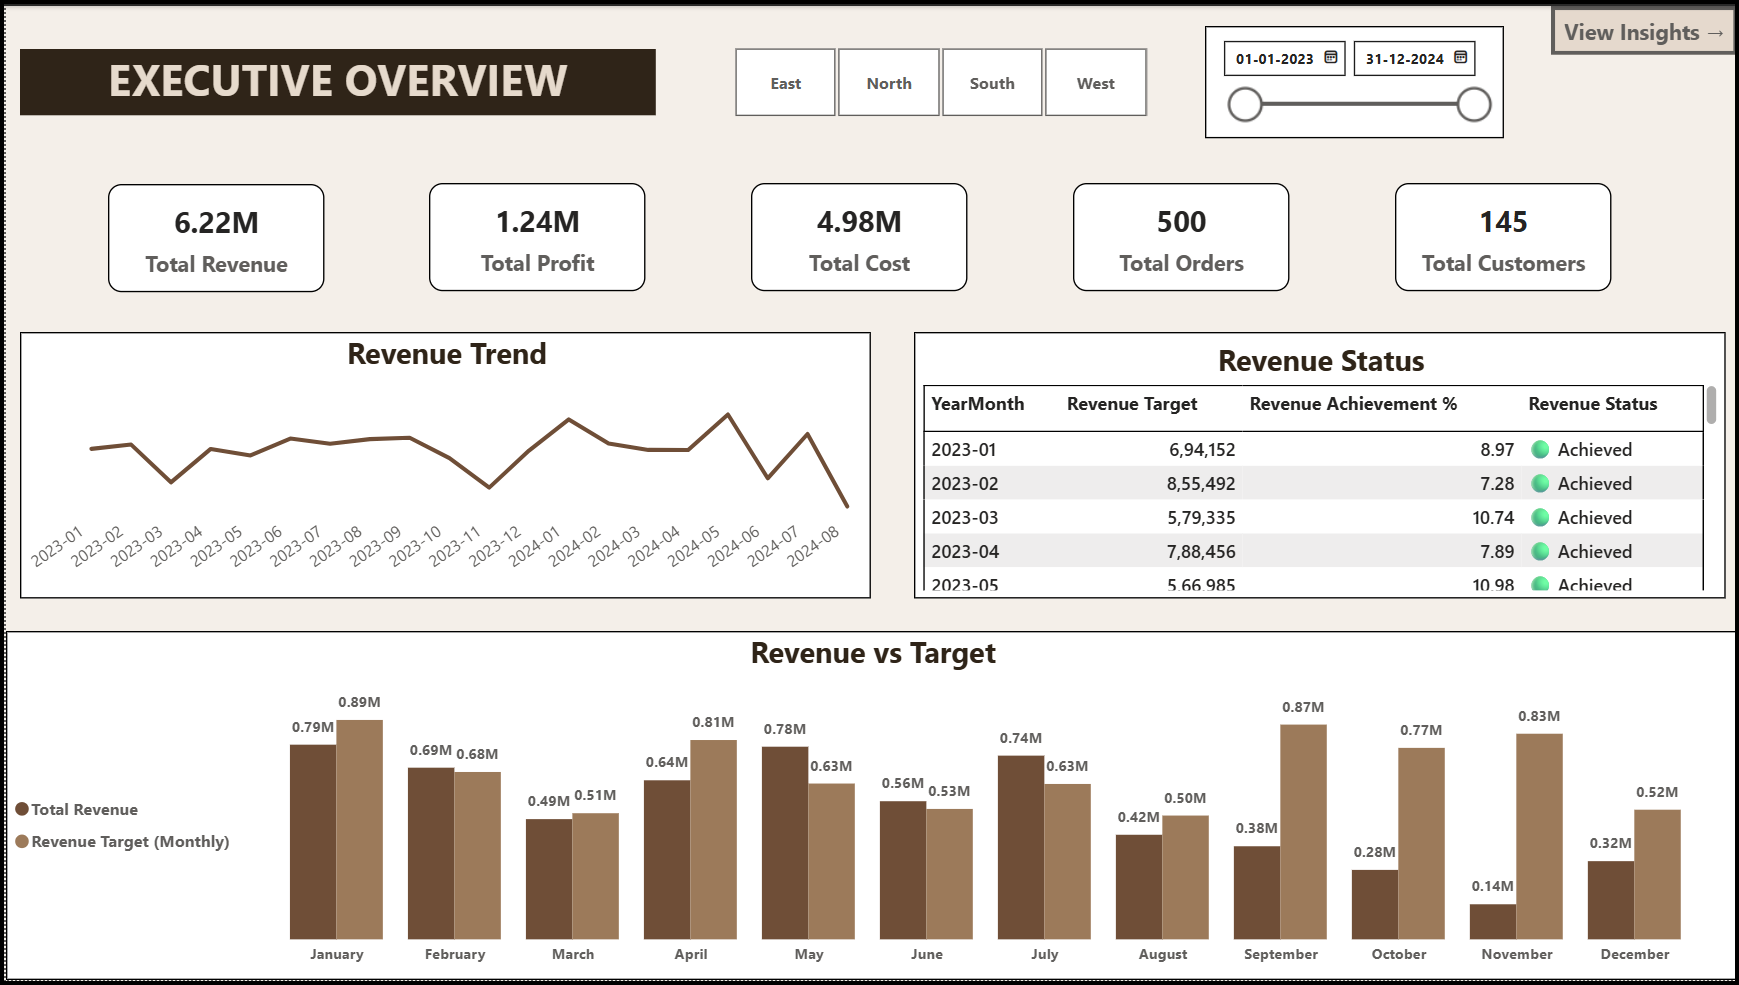

This screenshot's page, from the dashboard's own definition file:
{"tool":"powerbi","page":{"name":"Executive Overview","canvas":[1280,720],"ordinal":0},"visuals":[{"type":"card","fields":{"Values":["fact_sales.Total Revenue"]},"box":[75,131.4,160.4,80.2],"z":0},{"type":"card","fields":{"Values":["fact_sales.Total Profit"]},"box":[312.9,131.2,160.4,80.2],"z":1000},{"type":"lineChart","title":"Revenue Trend","fields":{"Y":["fact_sales.Total Revenue"],"Category":["dim_date.Year-Month"]},"box":[10.7,240.9,629.3,197.3],"z":2000},{"type":"clusteredColumnChart","title":"Revenue vs Target","fields":{"Y":["fact_sales.Total Revenue","fact_targets.Revenue Target (Monthly)"],"Category":["dim_date.Month Name"]},"box":[0,462,1280,257.9],"z":3000},{"type":"tableEx","title":"Revenue Status","fields":{"Values":["fact_targets.YearMonth","fact_targets.Revenue Target","fact_targets.Revenue Achievement %","fact_targets.Revenue Status"]},"box":[671.1,240.9,600,197.3],"z":4000},{"type":"textbox","title":"EXECUTIVE OVERVIEW","box":[10.6,31.8,470,49.5],"z":5000},{"type":"card","fields":{"Values":["fact_sales.Total Cost"]},"box":[550.7,131.2,160.4,80.2],"z":6000},{"type":"card","fields":{"Values":["fact_sales.Total Orders"]},"box":[788.6,131.2,160.4,80.2],"z":7000},{"type":"card","fields":{"Values":["fact_sales.Total Customers"]},"box":[1026.4,131.2,160.4,80.2],"z":8000},{"type":"slicer","fields":{"Values":["dim_region.Region"]},"box":[518.5,27.4,343.6,58.3],"z":9000},{"type":"slicer","fields":{"Values":["dim_date.Date"]},"box":[886,15,220.8,83],"z":10000},{"type":"actionButton","title":"← Back to Dashboard","box":[1142.2,0,137.8,36.2],"z":10001}]}

Visuals, with their boxes in screenshot pixels (x1, y1, x2, y2), scaled from the page's 1280x720 canvas onto the 1739x985 screenshot:
card - fact_sales.Total Revenue: [x1=102, y1=180, x2=320, y2=289]
card - fact_sales.Total Profit: [x1=425, y1=179, x2=643, y2=289]
"Revenue Trend" lineChart: [x1=15, y1=330, x2=870, y2=599]
"Revenue vs Target" clusteredColumnChart: [x1=0, y1=632, x2=1738, y2=984]
"Revenue Status" tableEx: [x1=912, y1=330, x2=1727, y2=599]
"EXECUTIVE OVERVIEW" textbox: [x1=14, y1=44, x2=653, y2=111]
card - fact_sales.Total Cost: [x1=748, y1=179, x2=966, y2=289]
card - fact_sales.Total Orders: [x1=1071, y1=179, x2=1289, y2=289]
card - fact_sales.Total Customers: [x1=1394, y1=179, x2=1612, y2=289]
slicer - dim_region.Region: [x1=704, y1=37, x2=1171, y2=117]
slicer - dim_date.Date: [x1=1204, y1=21, x2=1504, y2=134]
"← Back to Dashboard" actionButton: [x1=1552, y1=0, x2=1738, y2=50]
